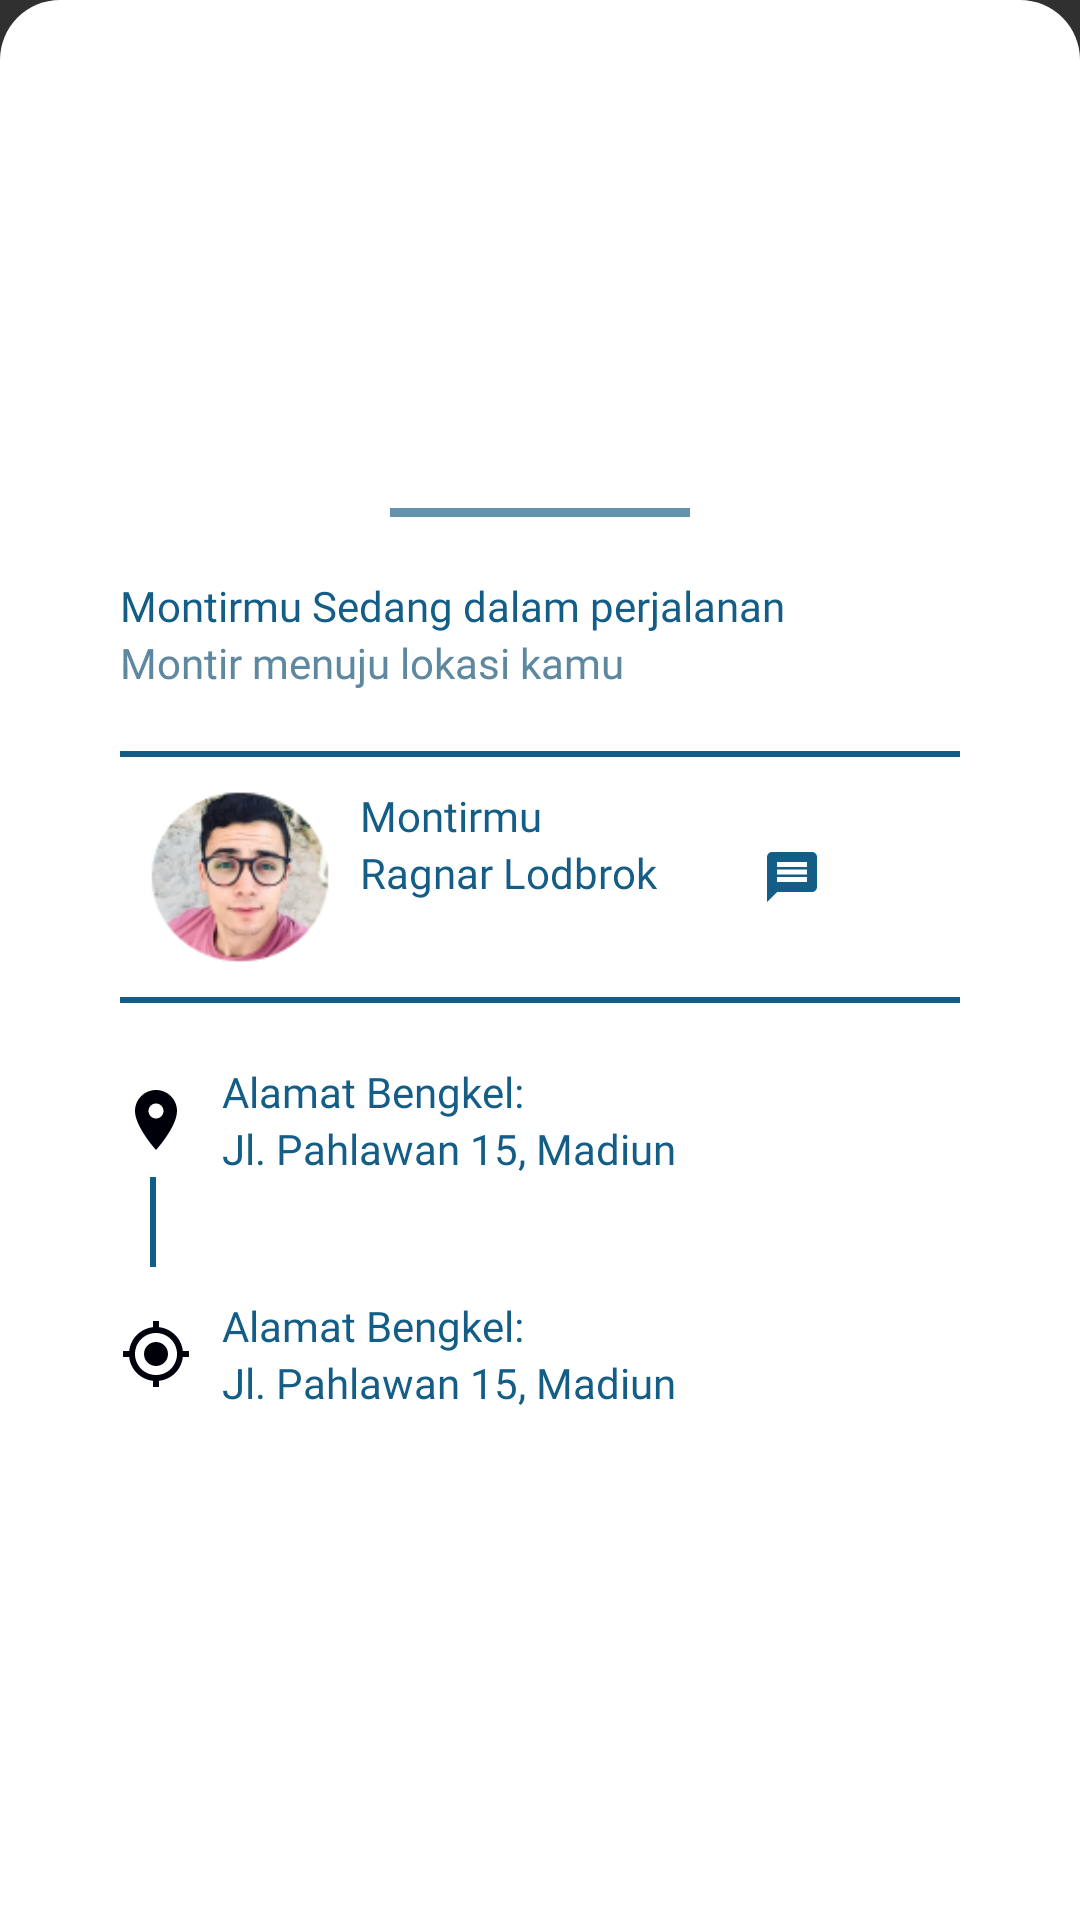

Point at icon controls on the screen. Image size 1080 x 1920, points as [x,y].
current: [156,1354]
lokasi: [156,1120]
pesaan: [792,877]
